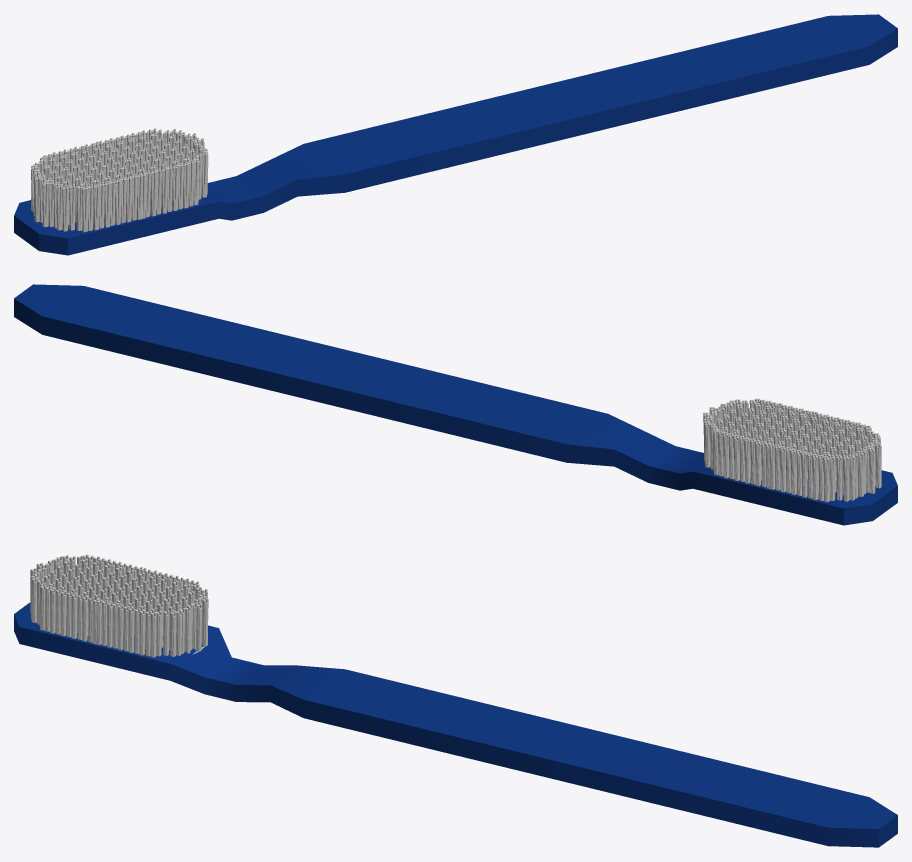
File: Toothbrush.obj
3 views of the same model, one above another, from view 1: azimuth 30°, elevation 25°; view 2: azimuth 150°, elevation 25°; view 3: azimuth 330°, elevation 25° (orthographic).
Visible parts, largest first — view 1: Cube; view 2: Cube; view 3: Cube.
Boxes of the visible parts, left/top/right/bottom form: Cube: left=14, top=14, right=897, bottom=255; Cube: left=14, top=284, right=897, bottom=525; Cube: left=14, top=602, right=897, bottom=847.
Size of the model in its own units: 400 by 34.07 by 39.14.
